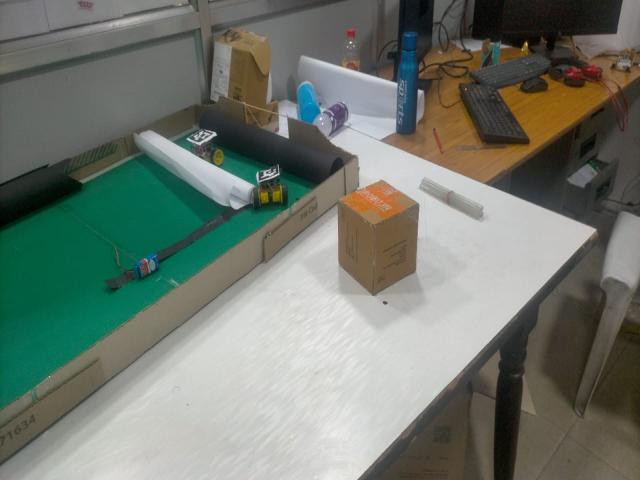Mouse: (522, 75, 548, 94)
bottle: (395, 27, 420, 135), (310, 101, 350, 139), (341, 28, 363, 71)
